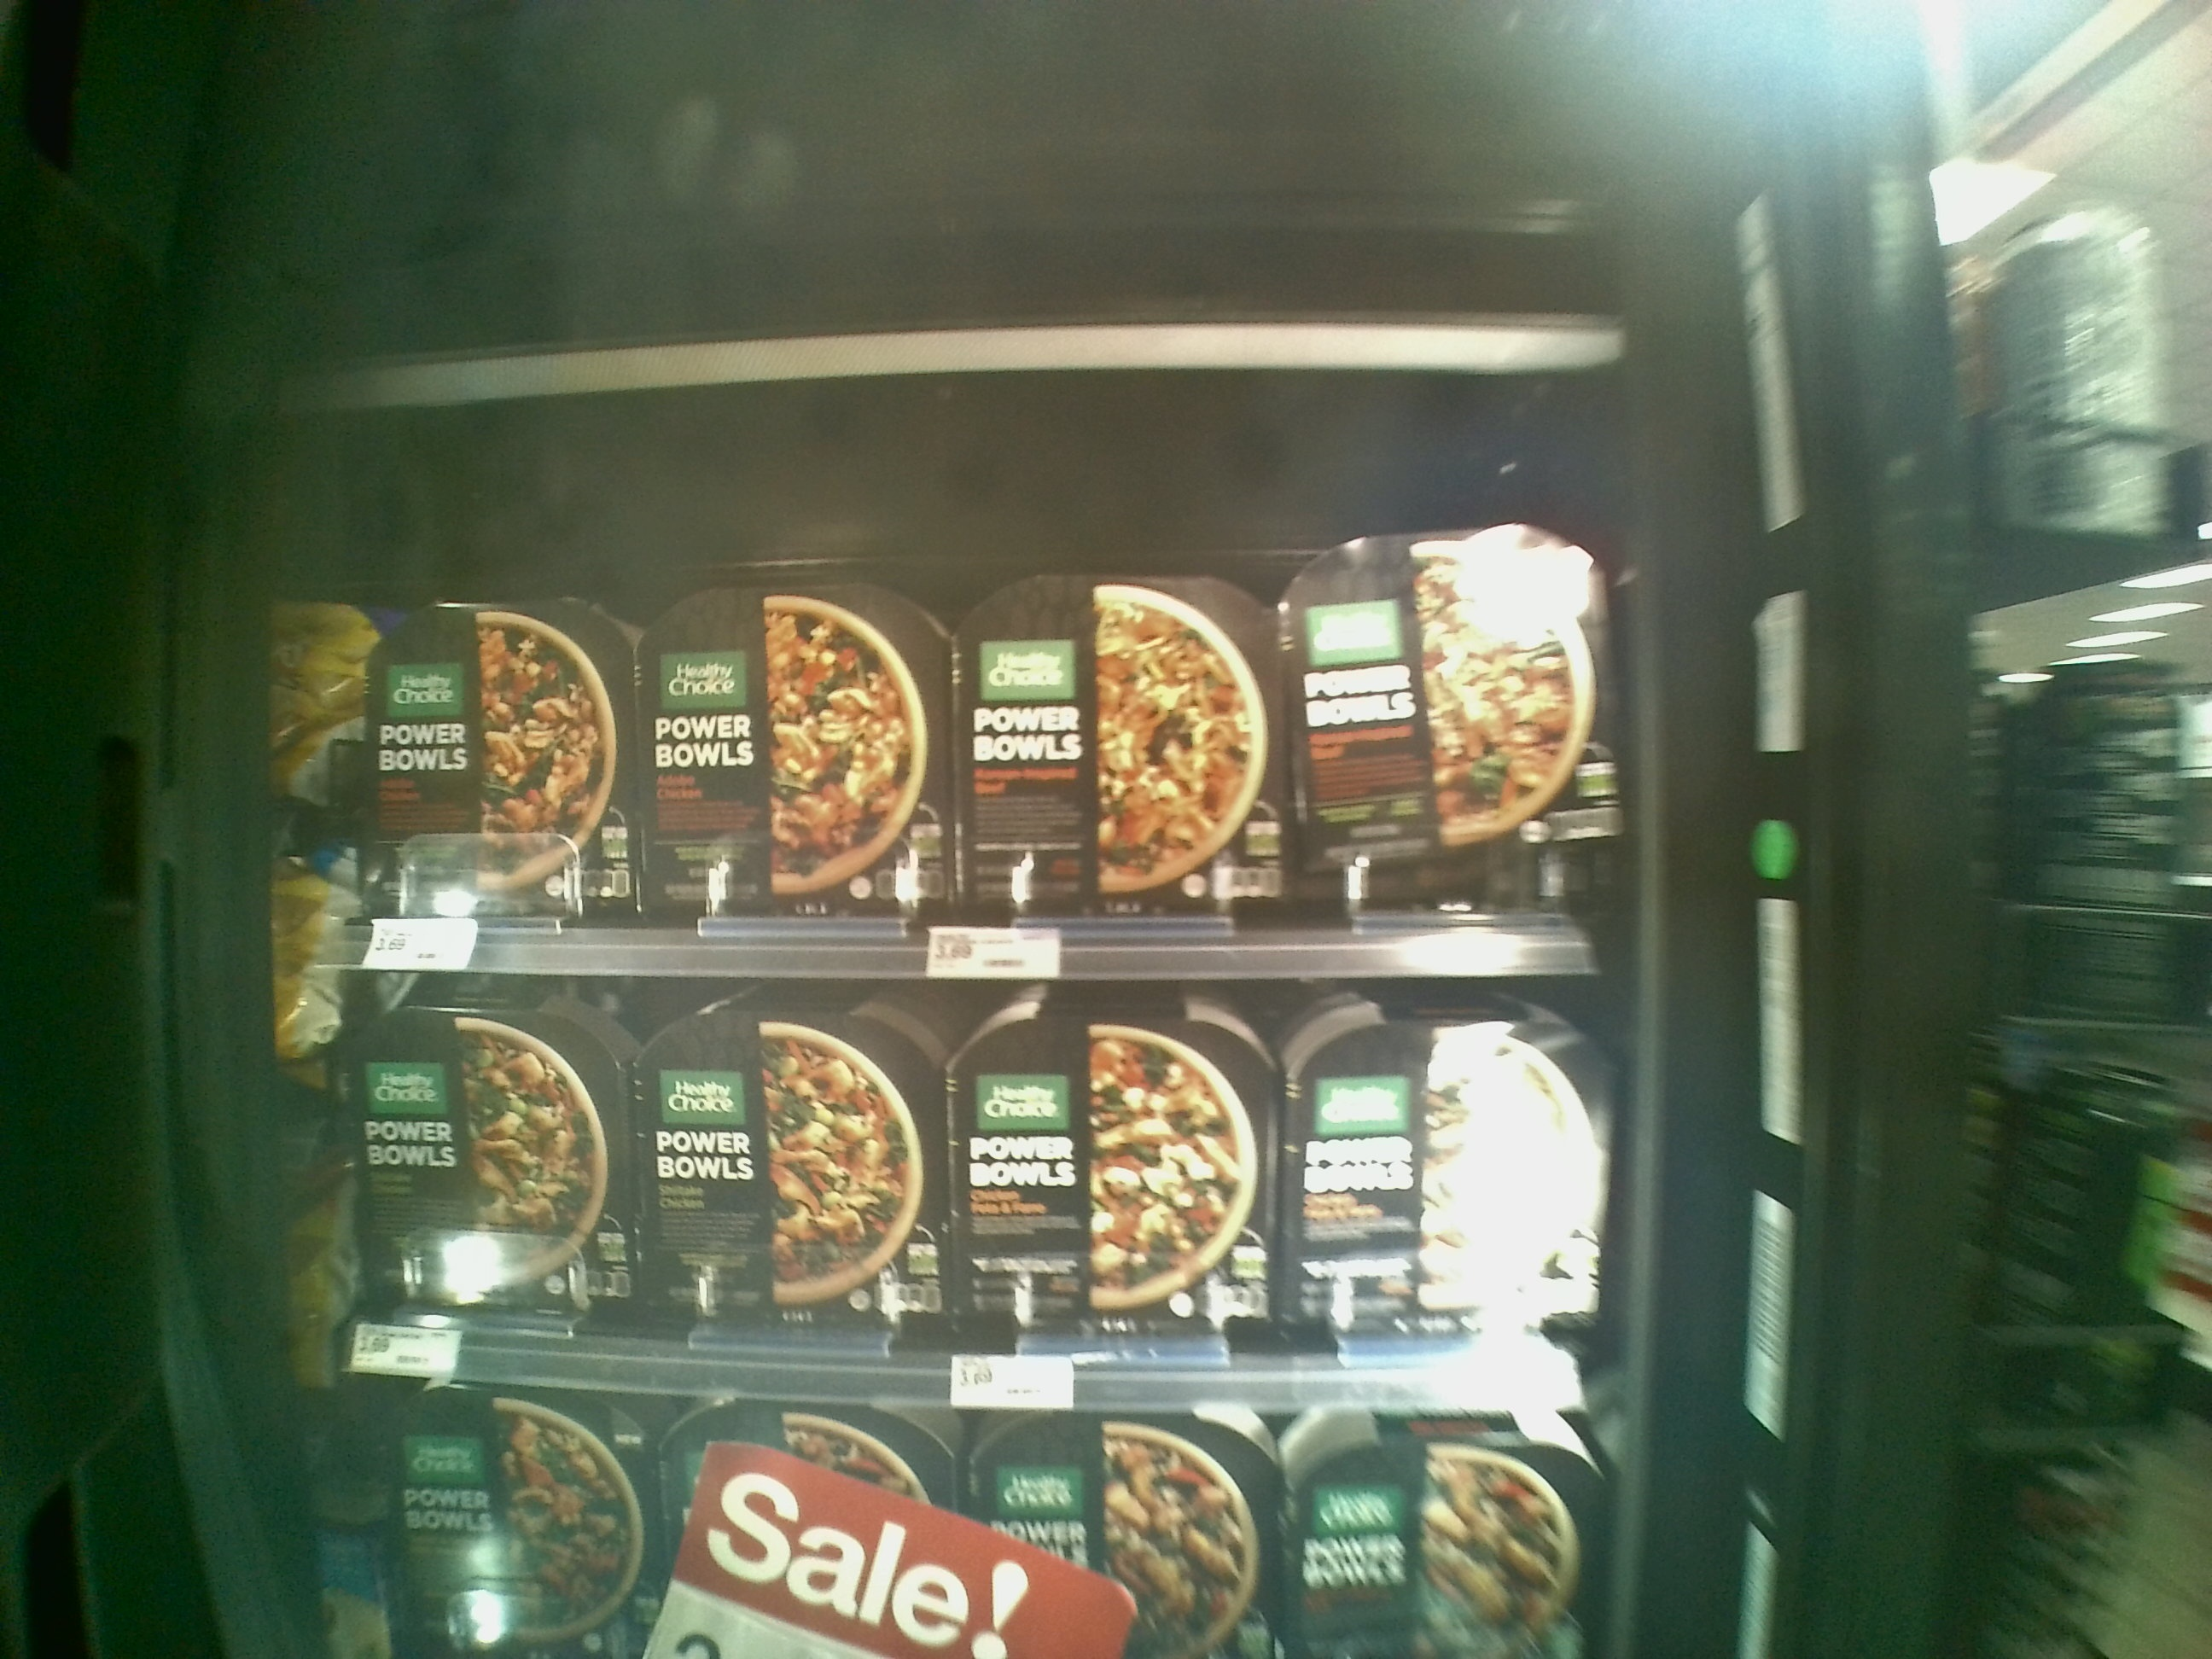shelf: (287, 317, 1627, 978)
